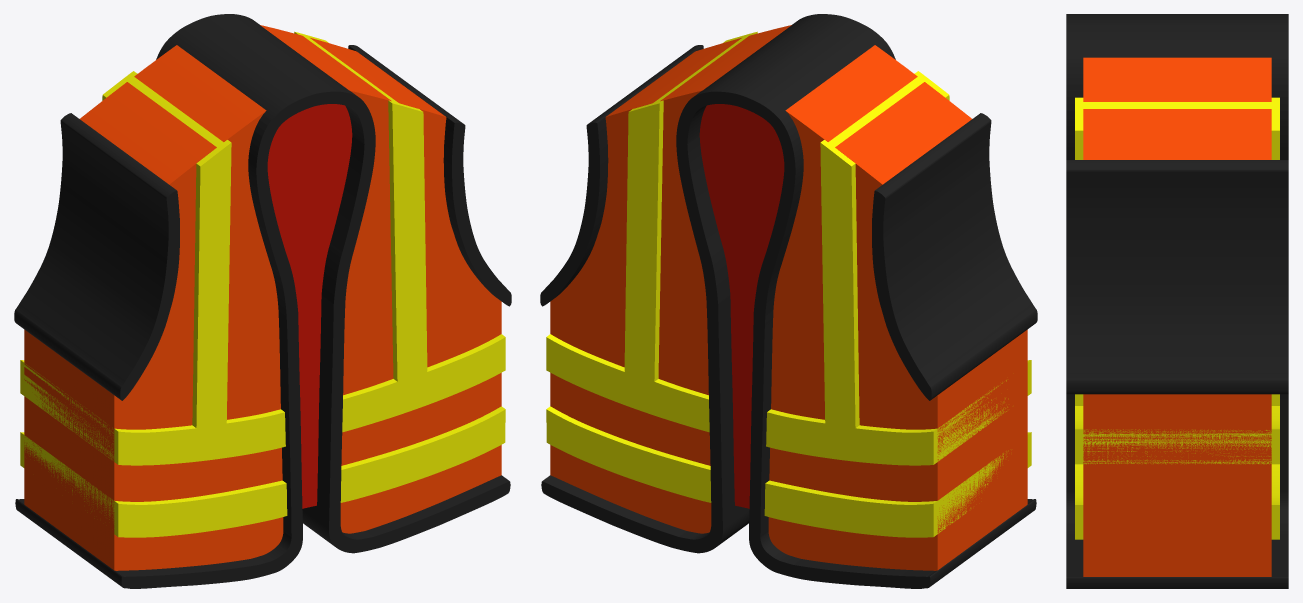
3 views of the same model, side by side, from view 1: azimuth 30°, elevation 25°; view 2: azimuth 150°, elevation 25°; view 3: azimuth 270°, elevation 25° (orthographic). The views are drawn at different scales.
Parts seen in each view (by area): view 1: U+1F9BA_layer01_obj00, U+1F9BA_layer03_obj02, U+1F9BA_layer01_obj01, U+1F9BA_layer03_obj00, U+1F9BA_layer02_obj02, U+1F9BA_layer02_obj03, U+1F9BA_layer00_obj00, U+1F9BA_layer02_obj01, U+1F9BA_layer02_obj00, U+1F9BA_layer03_obj01; view 2: U+1F9BA_layer01_obj00, U+1F9BA_layer03_obj02, U+1F9BA_layer01_obj01, U+1F9BA_layer03_obj00, U+1F9BA_layer02_obj02, U+1F9BA_layer02_obj03, U+1F9BA_layer00_obj00, U+1F9BA_layer02_obj01, U+1F9BA_layer02_obj00, U+1F9BA_layer03_obj01; view 3: U+1F9BA_layer01_obj01, U+1F9BA_layer03_obj01, U+1F9BA_layer03_obj02, U+1F9BA_layer02_obj03, U+1F9BA_layer02_obj00.
Boxes of the visible parts, bbox=[...] form: U+1F9BA_layer01_obj00: bbox=[24, 45, 283, 570]; U+1F9BA_layer03_obj02: bbox=[15, 14, 510, 588]; U+1F9BA_layer01_obj01: bbox=[260, 25, 501, 533]; U+1F9BA_layer03_obj00: bbox=[14, 113, 179, 400]; U+1F9BA_layer02_obj02: bbox=[20, 71, 285, 465]; U+1F9BA_layer02_obj03: bbox=[294, 31, 505, 432]; U+1F9BA_layer00_obj00: bbox=[267, 104, 352, 508]; U+1F9BA_layer02_obj01: bbox=[20, 432, 287, 537]; U+1F9BA_layer02_obj00: bbox=[340, 406, 505, 502]; U+1F9BA_layer03_obj01: bbox=[348, 45, 511, 306]; U+1F9BA_layer01_obj00: bbox=[768, 45, 1027, 570]; U+1F9BA_layer03_obj02: bbox=[541, 14, 1036, 588]; U+1F9BA_layer01_obj01: bbox=[550, 25, 791, 533]; U+1F9BA_layer03_obj00: bbox=[872, 113, 1037, 400]; U+1F9BA_layer02_obj02: bbox=[766, 71, 1031, 465]; U+1F9BA_layer02_obj03: bbox=[546, 31, 757, 432]; U+1F9BA_layer00_obj00: bbox=[699, 104, 784, 508]; U+1F9BA_layer02_obj01: bbox=[764, 432, 1031, 537]; U+1F9BA_layer02_obj00: bbox=[546, 406, 711, 502]; U+1F9BA_layer03_obj01: bbox=[540, 45, 703, 306]; U+1F9BA_layer01_obj01: bbox=[1083, 57, 1271, 576]; U+1F9BA_layer03_obj01: bbox=[1066, 160, 1288, 394]; U+1F9BA_layer03_obj02: bbox=[1066, 14, 1288, 588]; U+1F9BA_layer02_obj03: bbox=[1075, 97, 1279, 464]; U+1F9BA_layer02_obj00: bbox=[1075, 464, 1279, 539].
Bounding box in the file's own units: 0.277 × 0.3175 × 0.13.
